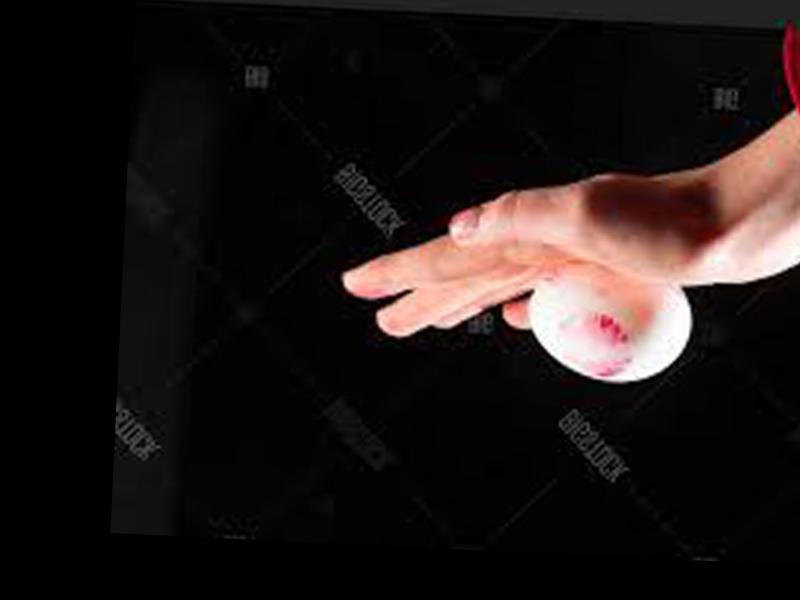Eggs: (530, 270, 695, 386)
